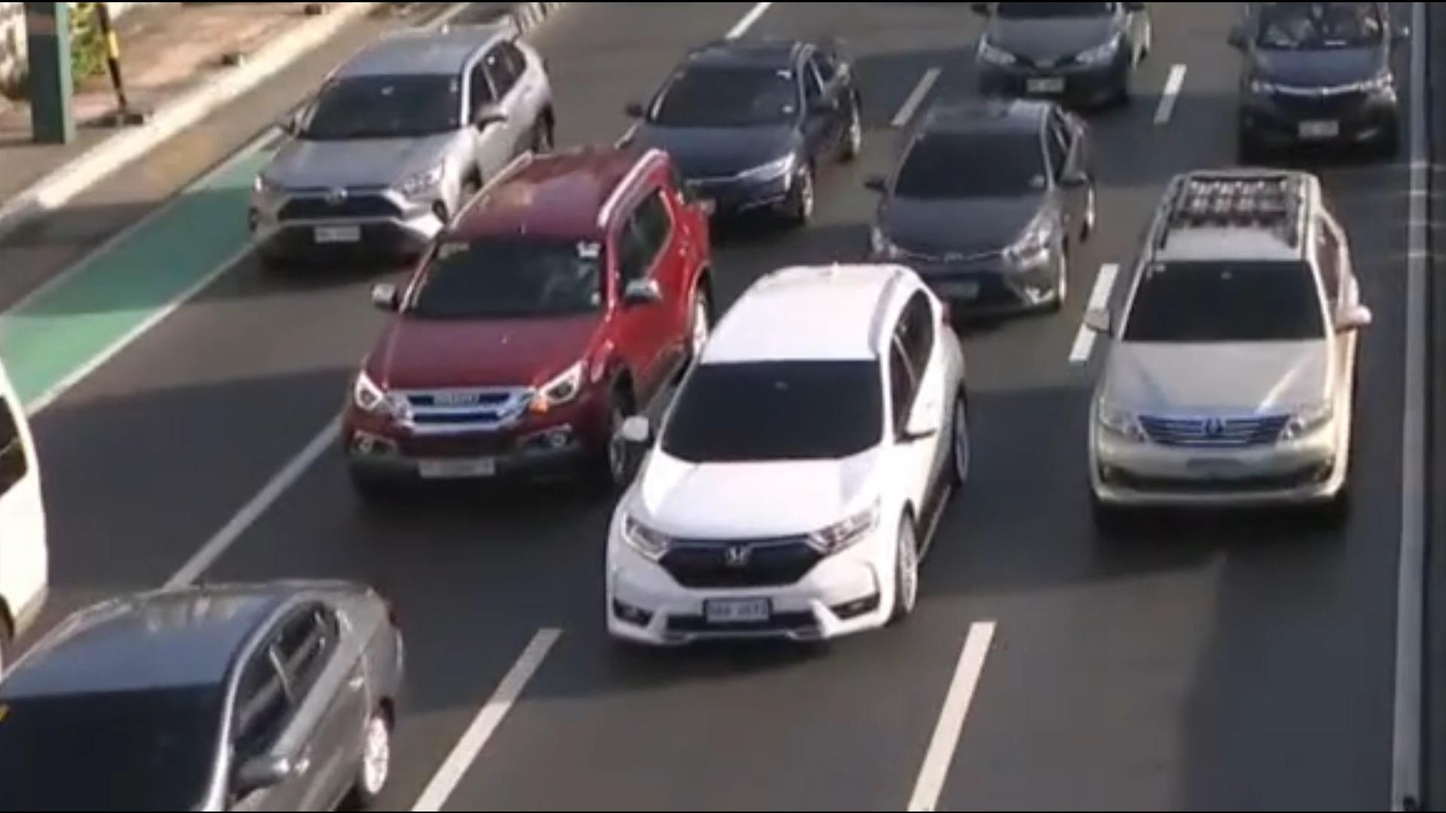SUV: (607, 266, 969, 656), (348, 147, 714, 503), (1081, 165, 1370, 524), (250, 30, 556, 280), (1226, 0, 1411, 167)
Sedan: (0, 578, 407, 813), (860, 100, 1097, 324), (620, 39, 859, 229), (966, 0, 1153, 107)
